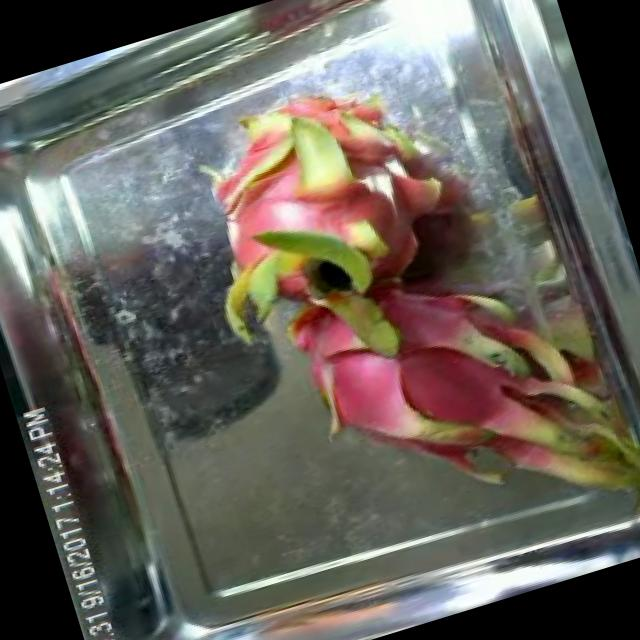Fruit: (310, 97, 424, 203)
